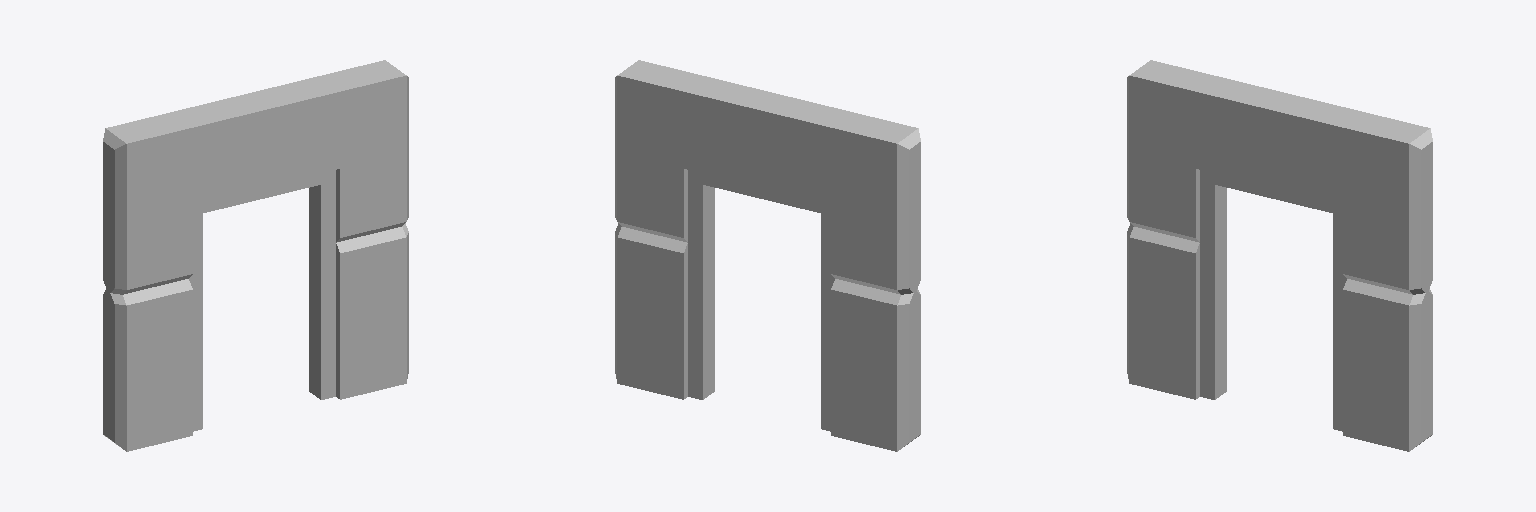
The model's file is wall_doorway.obj.
3 views of the same model, side by side, from view 1: azimuth 30°, elevation 25°; view 2: azimuth 150°, elevation 25°; view 3: azimuth 330°, elevation 25° (orthographic).
Visible parts, largest first — view 1: wall_doorway_Cube.145; view 2: wall_doorway_Cube.145; view 3: wall_doorway_Cube.145.
Part boxes in pixels (x1,y1,x2,y2): wall_doorway_Cube.145: (103,60,408,451); wall_doorway_Cube.145: (615,60,920,451); wall_doorway_Cube.145: (1127,60,1432,451).
Bounding box in the file's own units: 4 × 4 × 0.5.